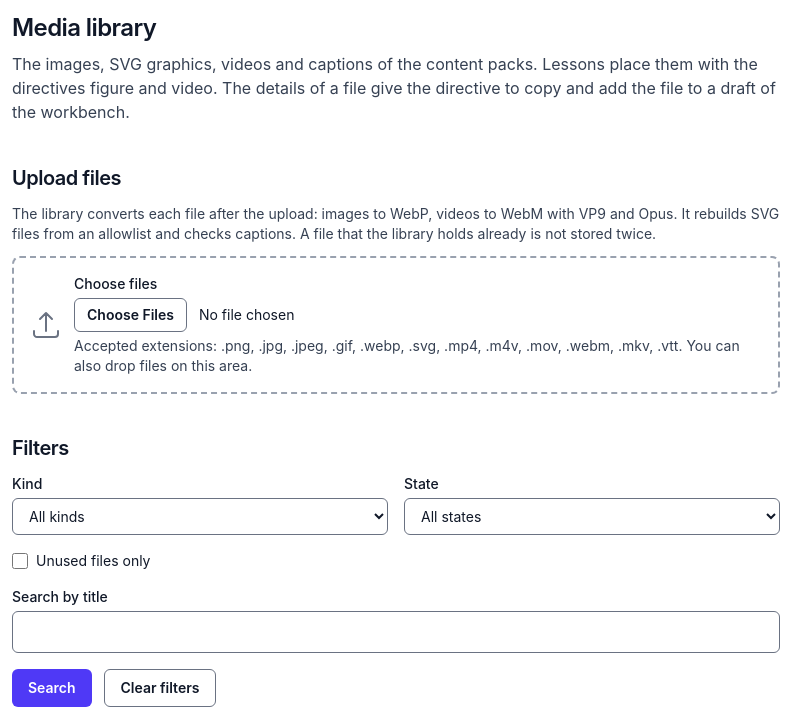
Test: the filters › send kind, state, unused and the search, and clear again
This screenshot has width=801, height=728.
Select "Video" in the dropdown labelled "Kind" at (200, 516), box [12, 498, 388, 535]
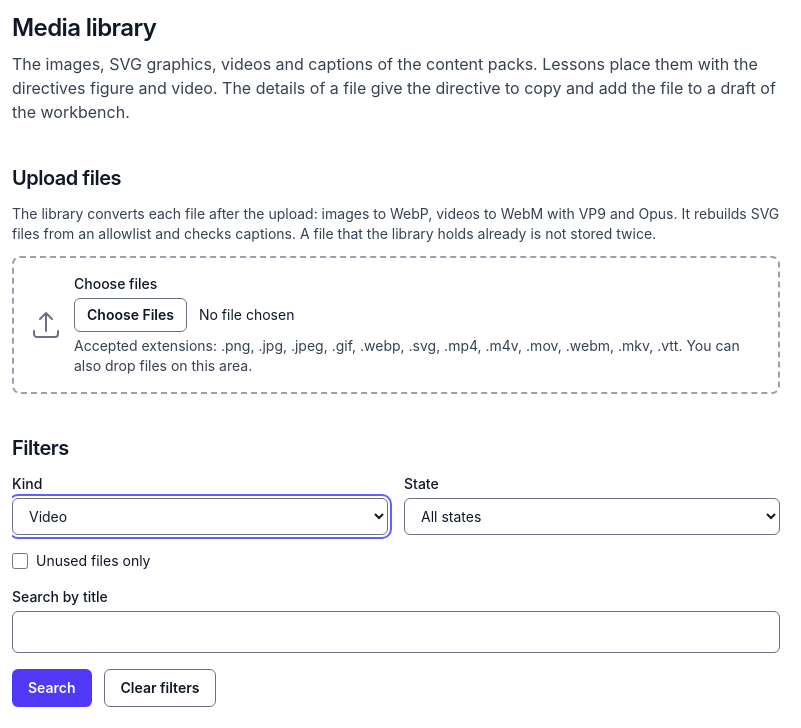
Select "Failed" in the dropdown labelled "State" at (592, 516), box [404, 498, 780, 535]
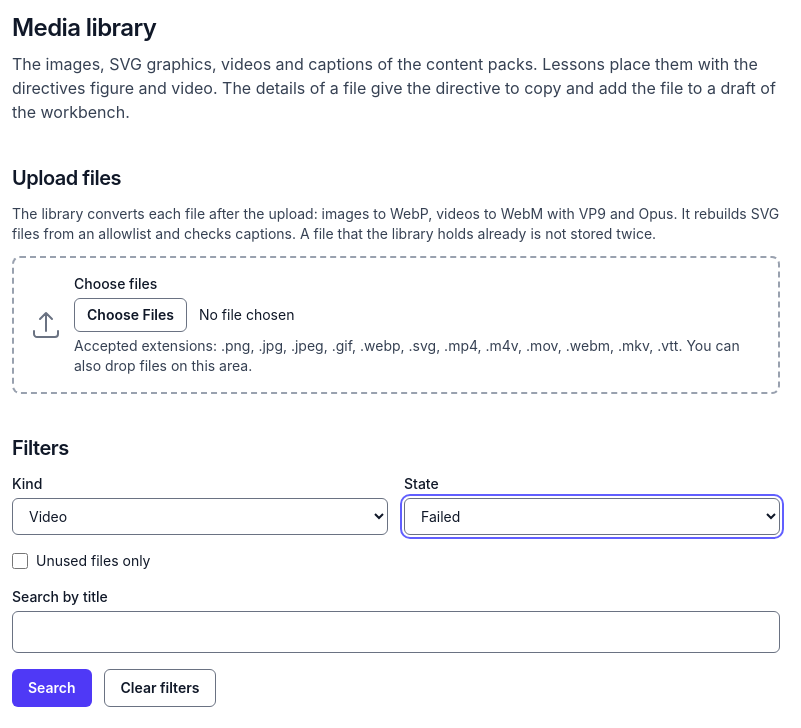
Click the checkbox labelled "Unused files only" at (20, 561), box [12, 553, 28, 569]
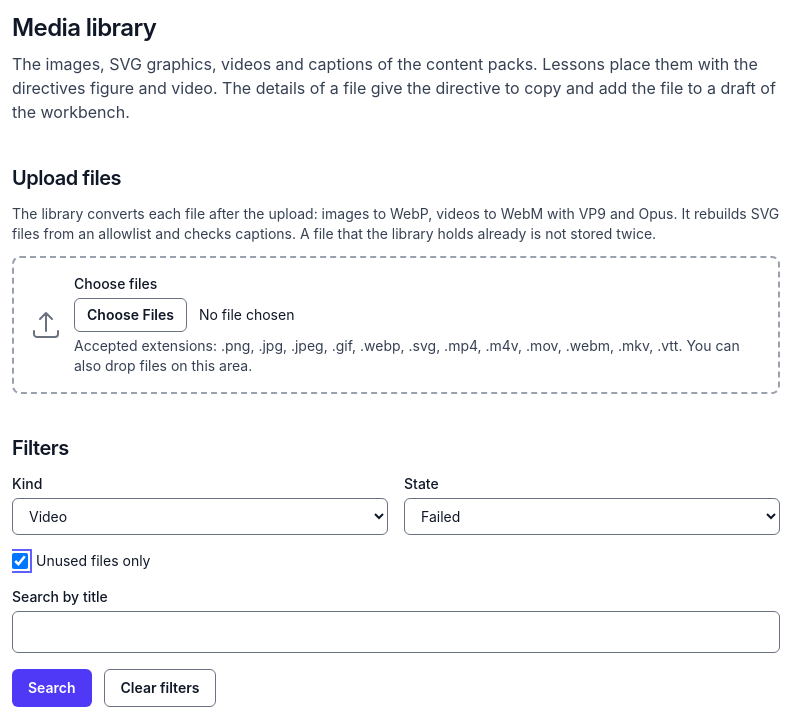
Type " photo " into the search field labelled "Search by title" at (396, 632), box [12, 611, 780, 653]
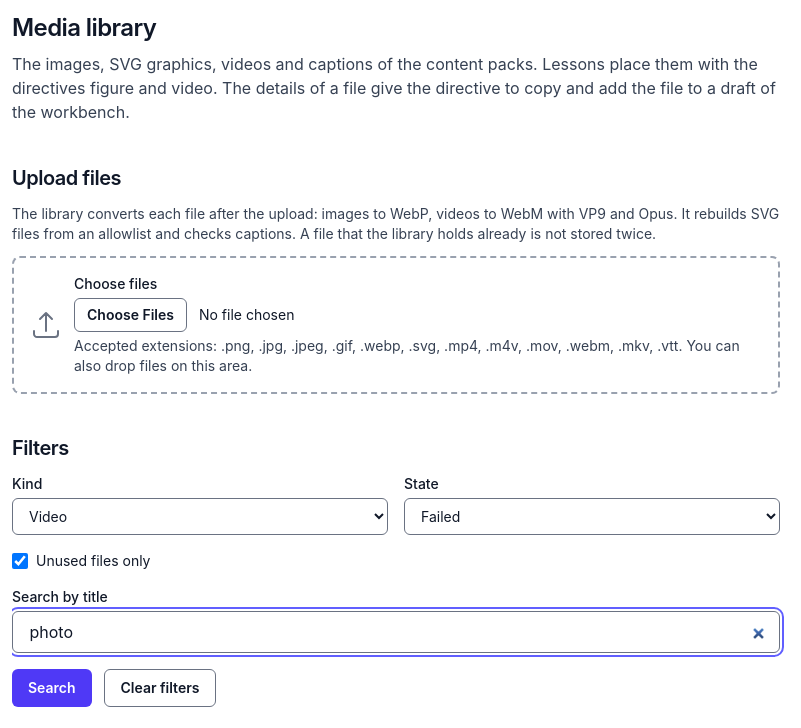
Click the button "Search" at (52, 688), box [12, 669, 92, 707]
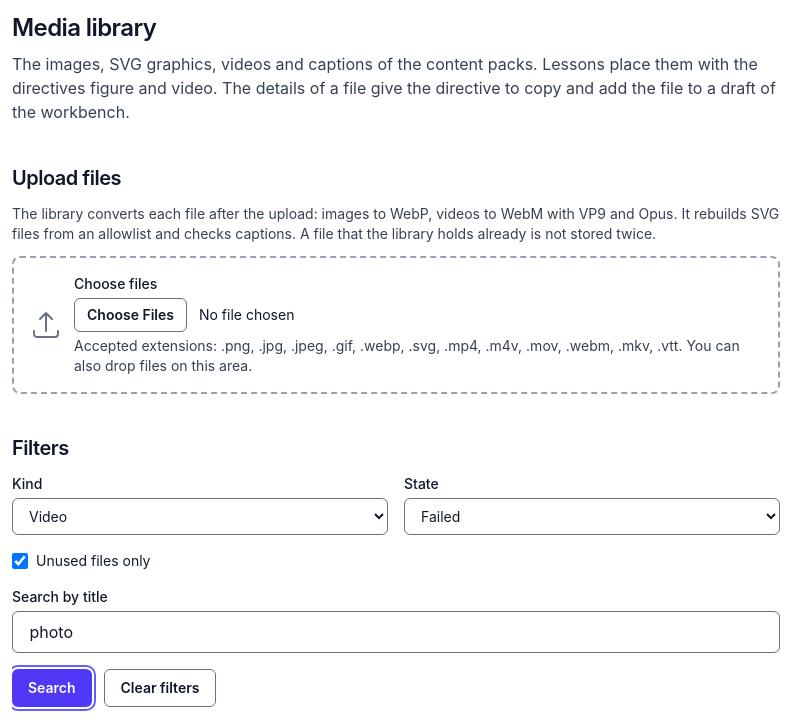
Click the button "Clear filters" at (160, 688), box [104, 669, 216, 707]
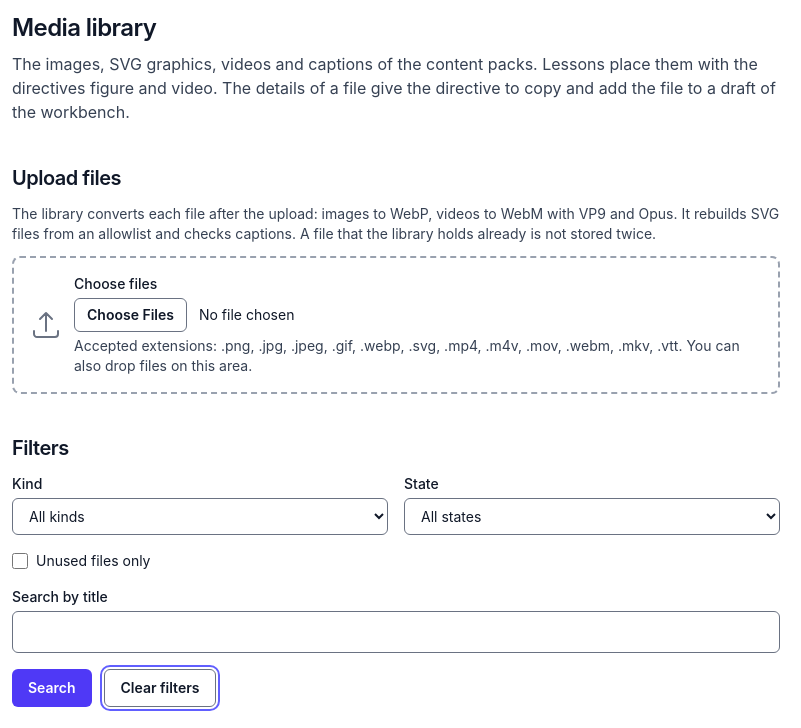
Check: the search field labelled "Search by title" is empty, box [12, 611, 780, 653]
